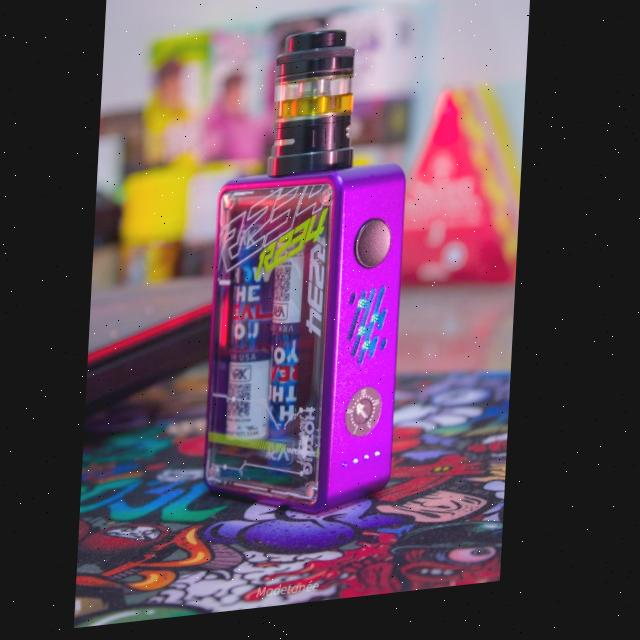vape: (207, 29, 415, 532)
